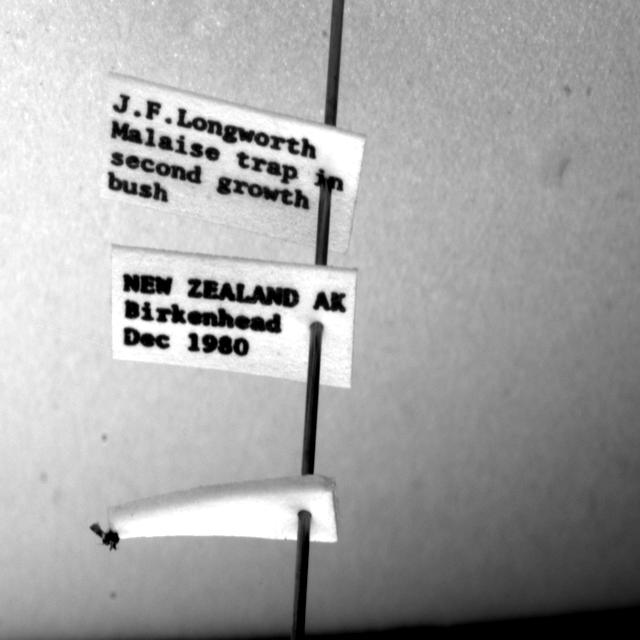typed_label: (101, 73, 365, 251), (111, 246, 356, 388)
